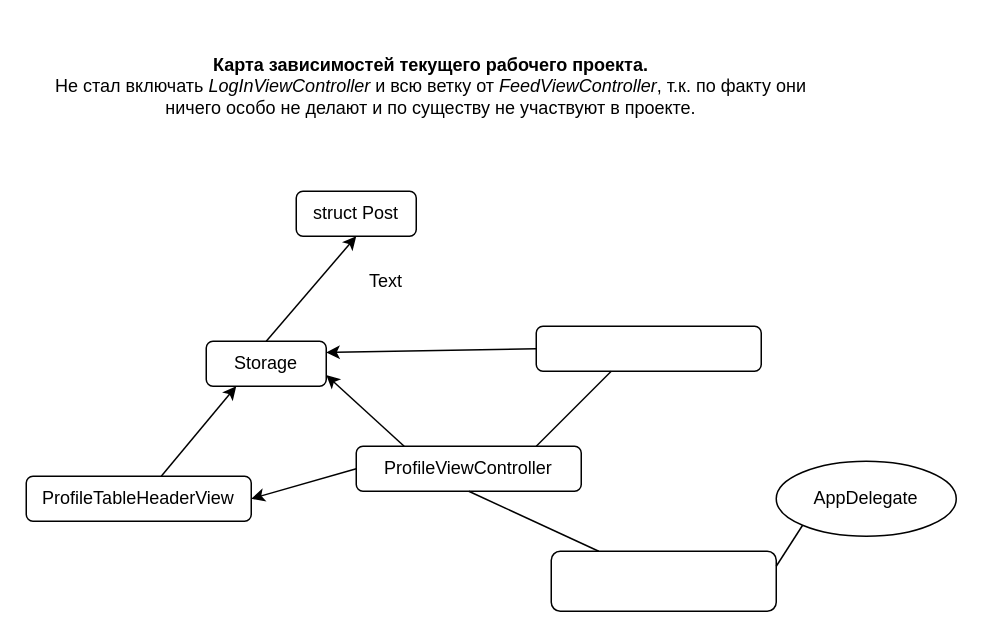
The diagram is 983 pixels wide and 638 high, and some of its shapes have lost their labels. The shapes that lost their labels are listed below. From the top down, each one's box as (x1, y1, x2, y2) in pixels, then its label:
(535, 325, 761, 371): PhotosViewController
(550, 550, 776, 611): UITabBarController
